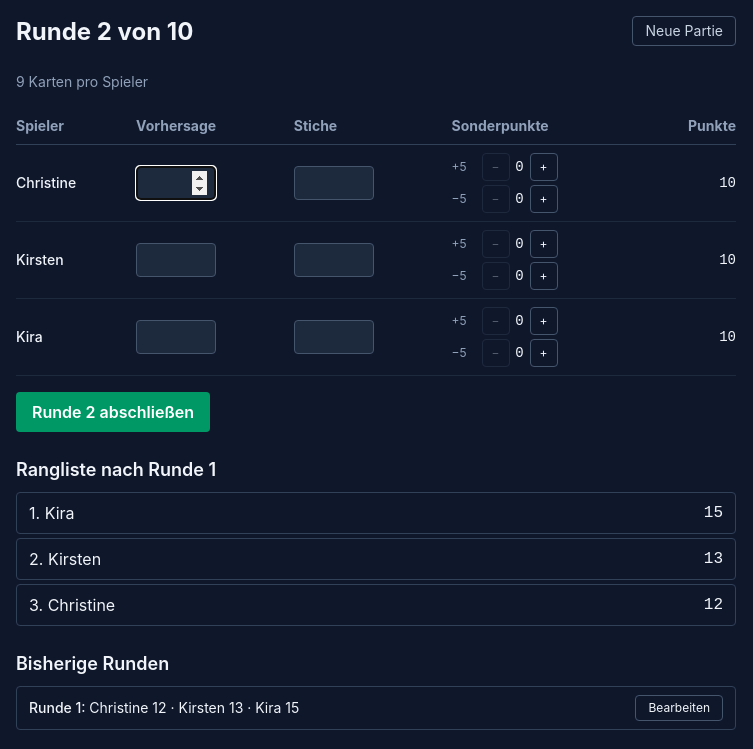
it: RoundEntryScreen › editing a previous round › pre-fills the form with the round being edited and calls onRoundEdit on save
Later steps or results of the test are not shown.
Click the button "Bearbeiten".
click(679, 708)  # box [635,695,723,721]
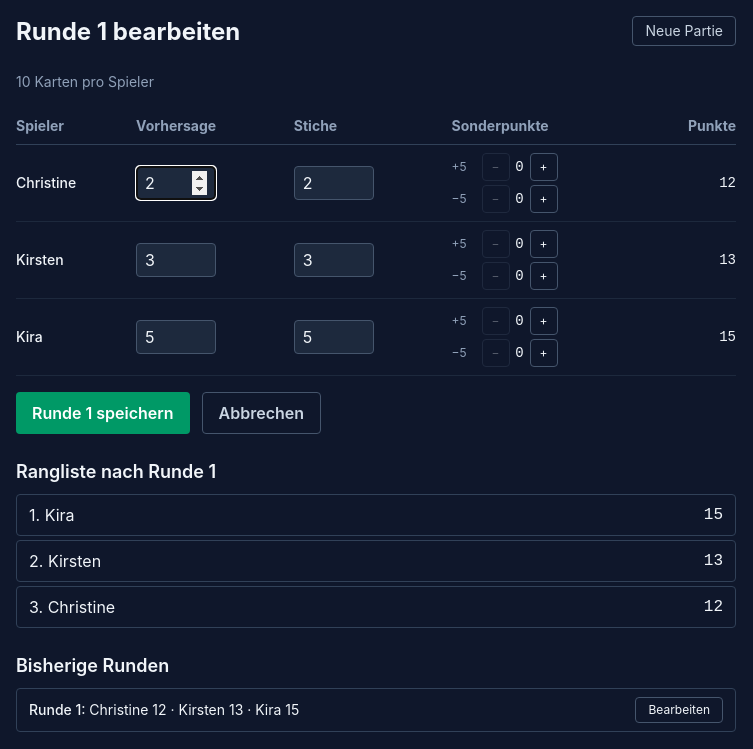
Check: the heading "Runde 1 bearbeiten" is shown, box [16,16,240,48]
Check: the number field named "Vorhersage Christine" holds "2", box [136,166,216,200]
